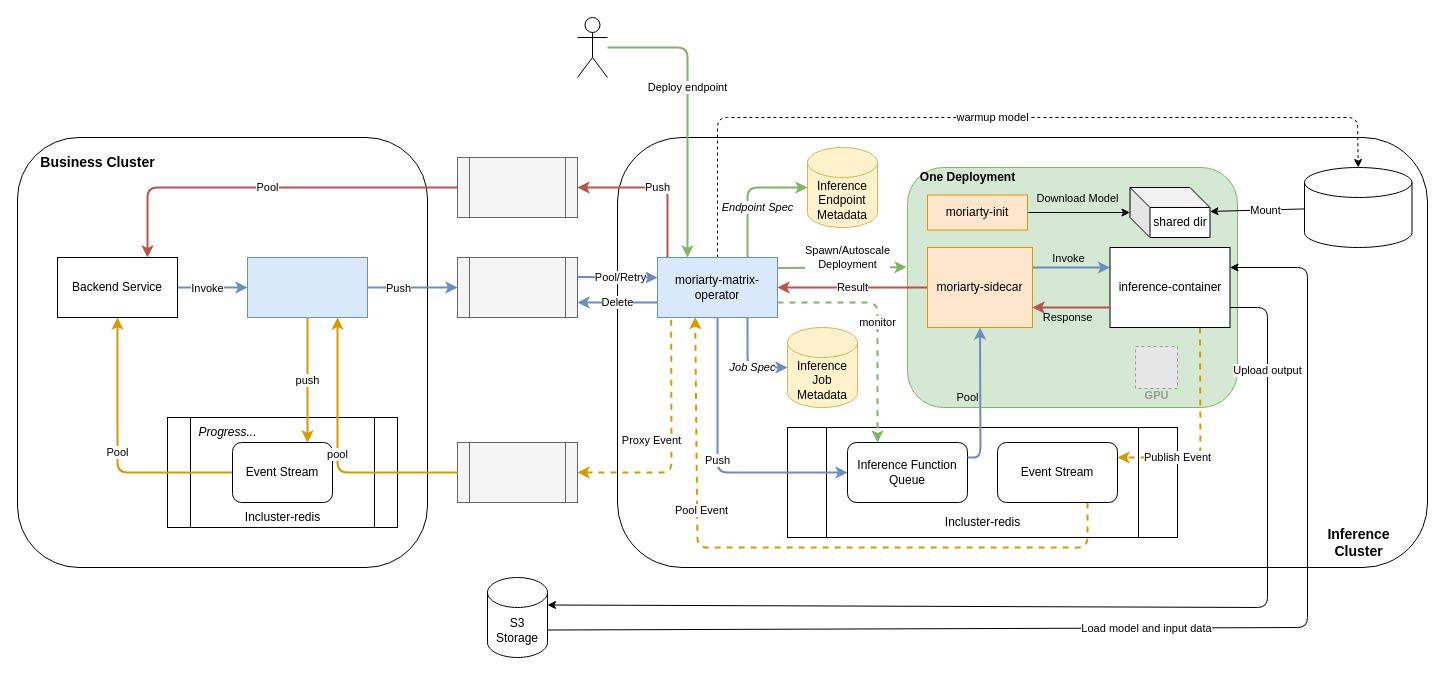
Some shapes in this 1445 by 675 pixel diagram are drawn without their labels. Grey dashed boxes stand in for pictures. The centre of each missing label's shape, as x and y in pixels:
Developer: the point at 592,47
Event Queue: the point at 517,472
Inference Job Queue: the point at 517,287
Inference Result Queue: the point at 517,187
moriarty-matrix-connector: the point at 307,287
Shared High Preformance Storage: the point at 1358,207
